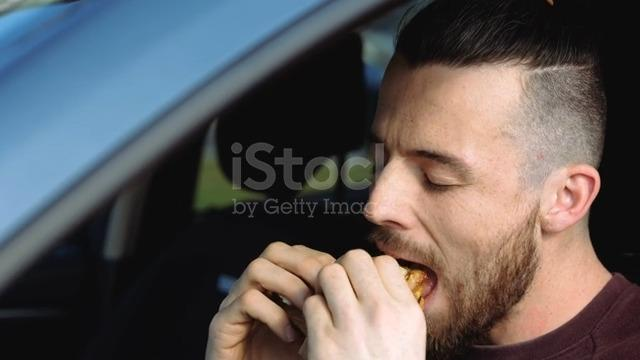Eating: (226, 23, 612, 360)
